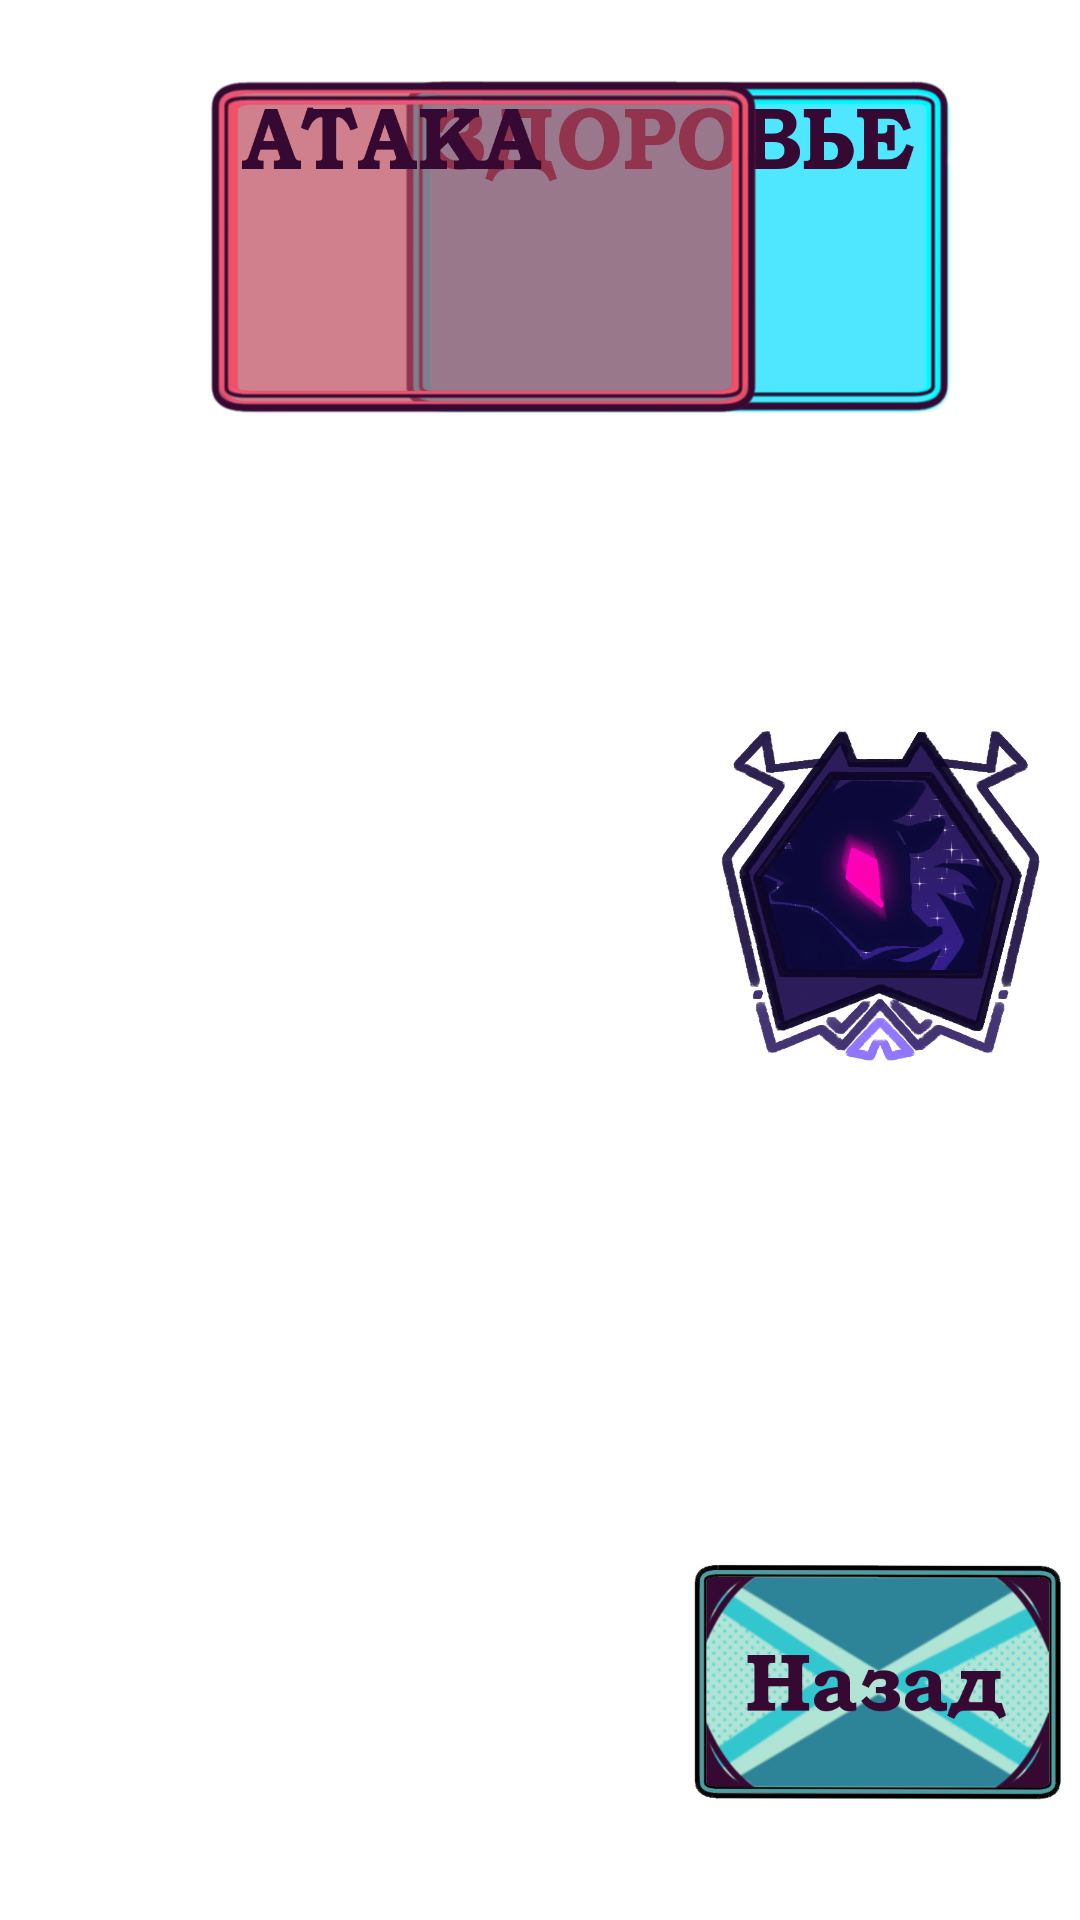

Where to tap for icons on this 1080 x 1920 app screen, as (x,y):
evilpers: (881,896)
